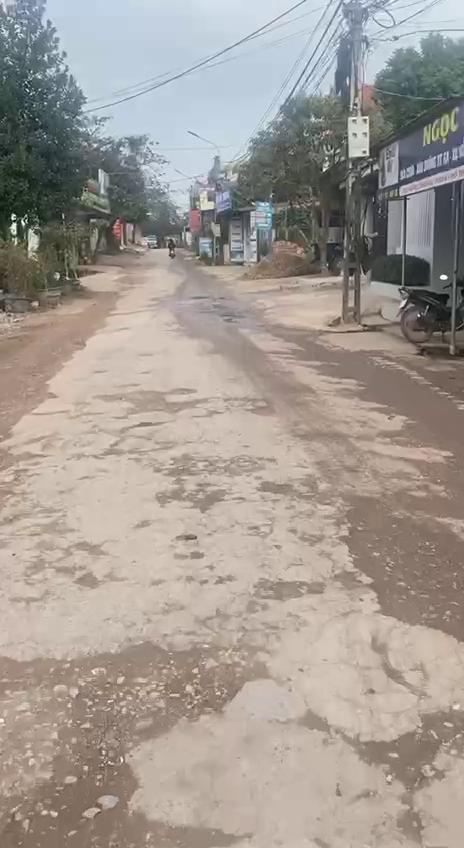pothole: (0, 633, 285, 848), (294, 686, 464, 847), (337, 483, 464, 648), (94, 386, 216, 422), (150, 447, 270, 480), (258, 471, 340, 511), (151, 475, 229, 516), (0, 436, 35, 503), (251, 572, 324, 603), (225, 394, 278, 420)
